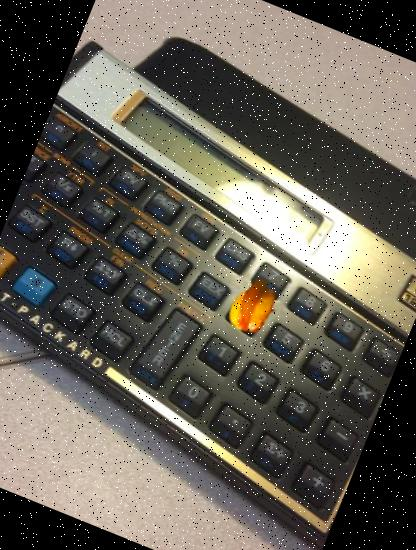Carambula: (217, 270, 291, 344)
